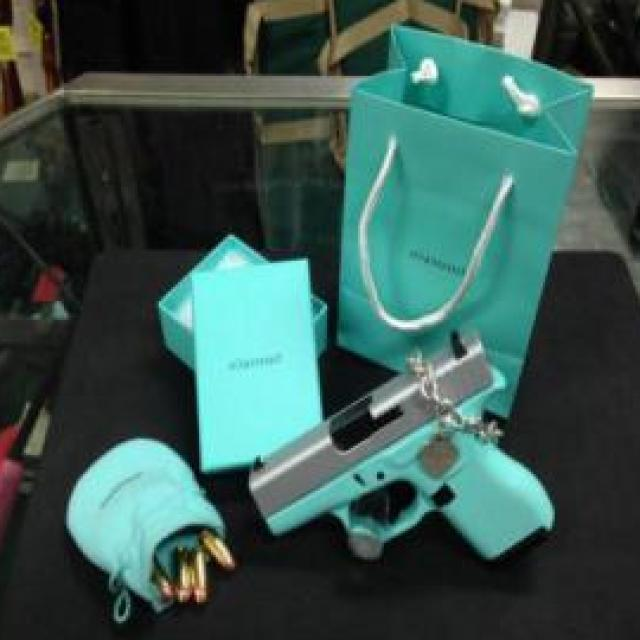pistol: (246, 334, 554, 577)
